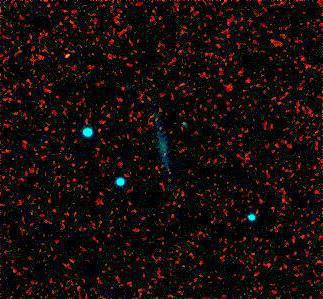star: (50, 39, 80, 69)
